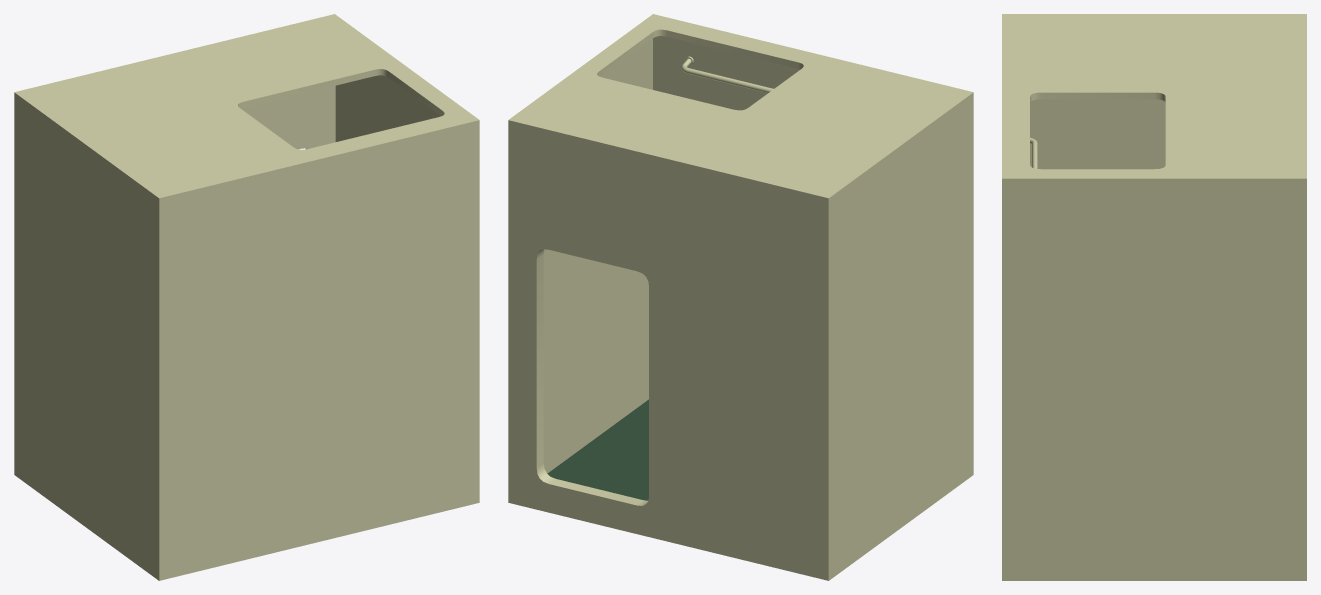
The model's file is escapeTrunk02.fbx.
3 renders of one model, left to right at view 1: azimuth 30°, elevation 25°; view 2: azimuth 150°, elevation 25°; view 3: azimuth 270°, elevation 25°, orthographic. The views are drawn at different scales.
Visible parts, largest first — view 1: escapeTrunk02; view 2: escapeTrunk02; view 3: escapeTrunk02.
Boxes of the visible parts, x1,y1,x2,y2 form: escapeTrunk02: (14, 14, 479, 580); escapeTrunk02: (508, 14, 973, 580); escapeTrunk02: (1002, 14, 1306, 580).
Bounding box in the file's own units: 263 × 300 × 206.
